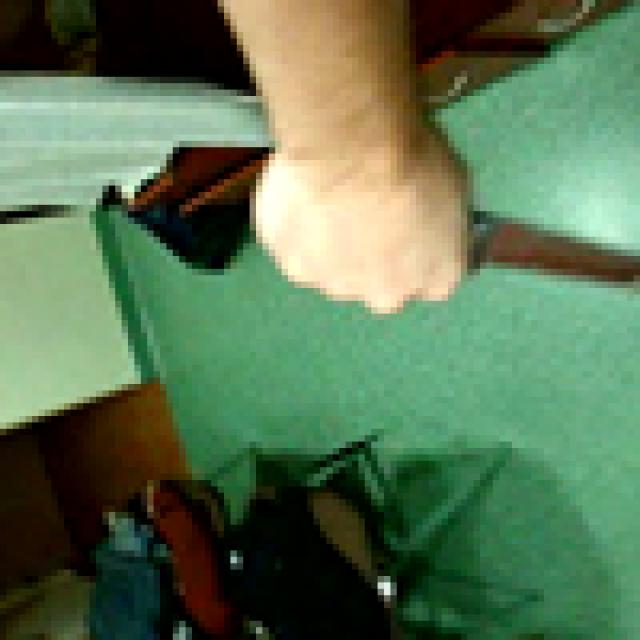Knife: (307, 166, 640, 333)
